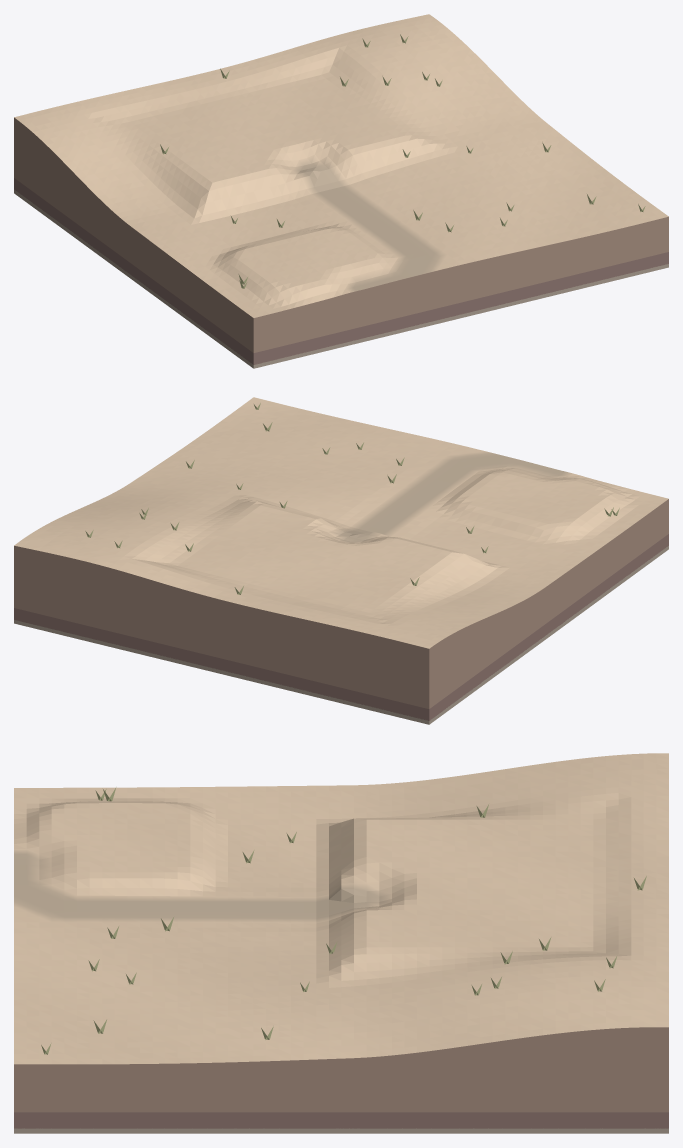
The picture shows the model from 3 angles, top to bottom: view 1: azimuth 30°, elevation 25°; view 2: azimuth 150°, elevation 25°; view 3: azimuth 270°, elevation 25°; orthographic projection. The views are drawn at different scales.
Parts seen in each view (by area): view 1: proc_ground, proc_skirt, proc_grass; view 2: proc_ground, proc_skirt, proc_grass; view 3: proc_ground, proc_skirt, proc_grass.
Boxes of the visible parts, box(x1,y1,x2,y2) form: proc_ground: box(14, 14, 668, 317); proc_skirt: box(14, 117, 668, 368); proc_grass: box(160, 34, 645, 288); proc_ground: box(14, 397, 668, 648); proc_skirt: box(14, 499, 668, 724); proc_grass: box(85, 403, 619, 594); proc_ground: box(14, 753, 668, 1064); proc_skirt: box(14, 1027, 668, 1133); proc_grass: box(41, 787, 646, 1054).
Size of the model in its own units: 8 by 1.64 by 8.
